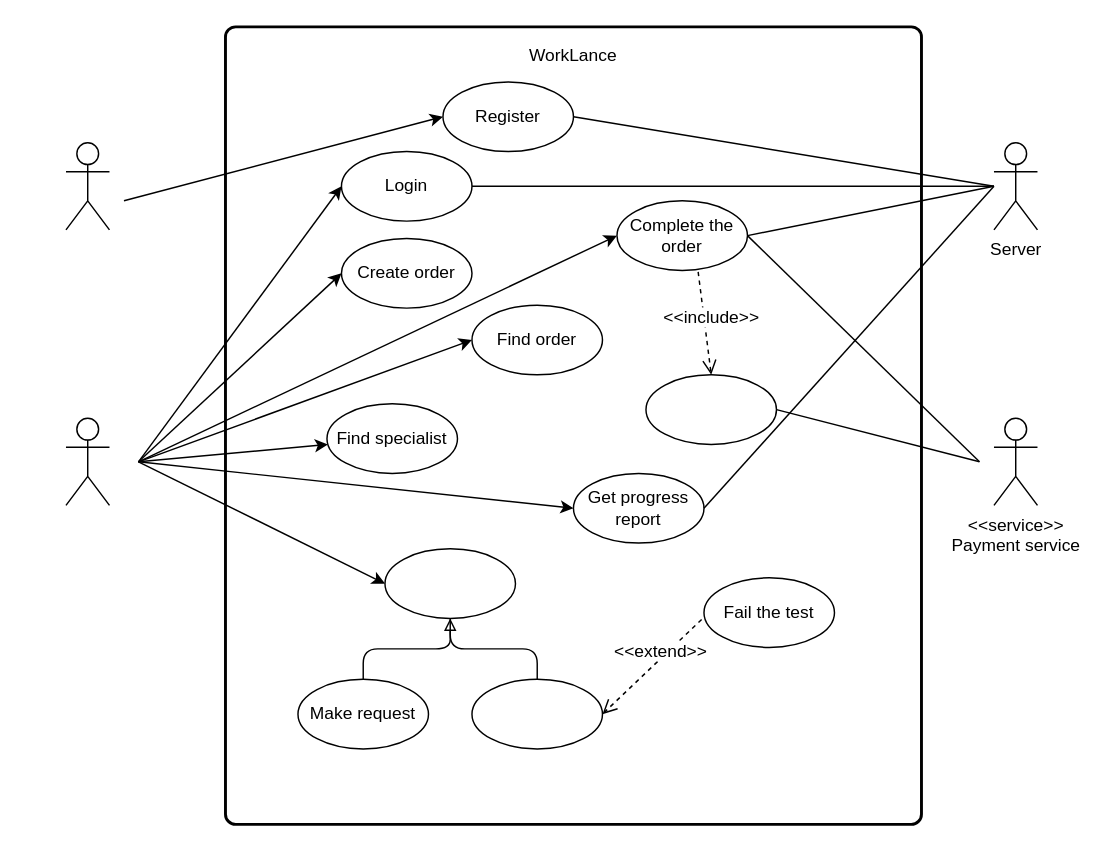
Image size: 1105x850. Some labels were removed from this diagram. Each missing label, with the centre of its shape:
"Approve speciality" goes at pixel 449 582.
"Check wallet ballance" goes at pixel 710 408.
"New User" goes at pixel 87 185.
"Pass the test" goes at pixel 536 713.
"Registered User" goes at pixel 87 461.
